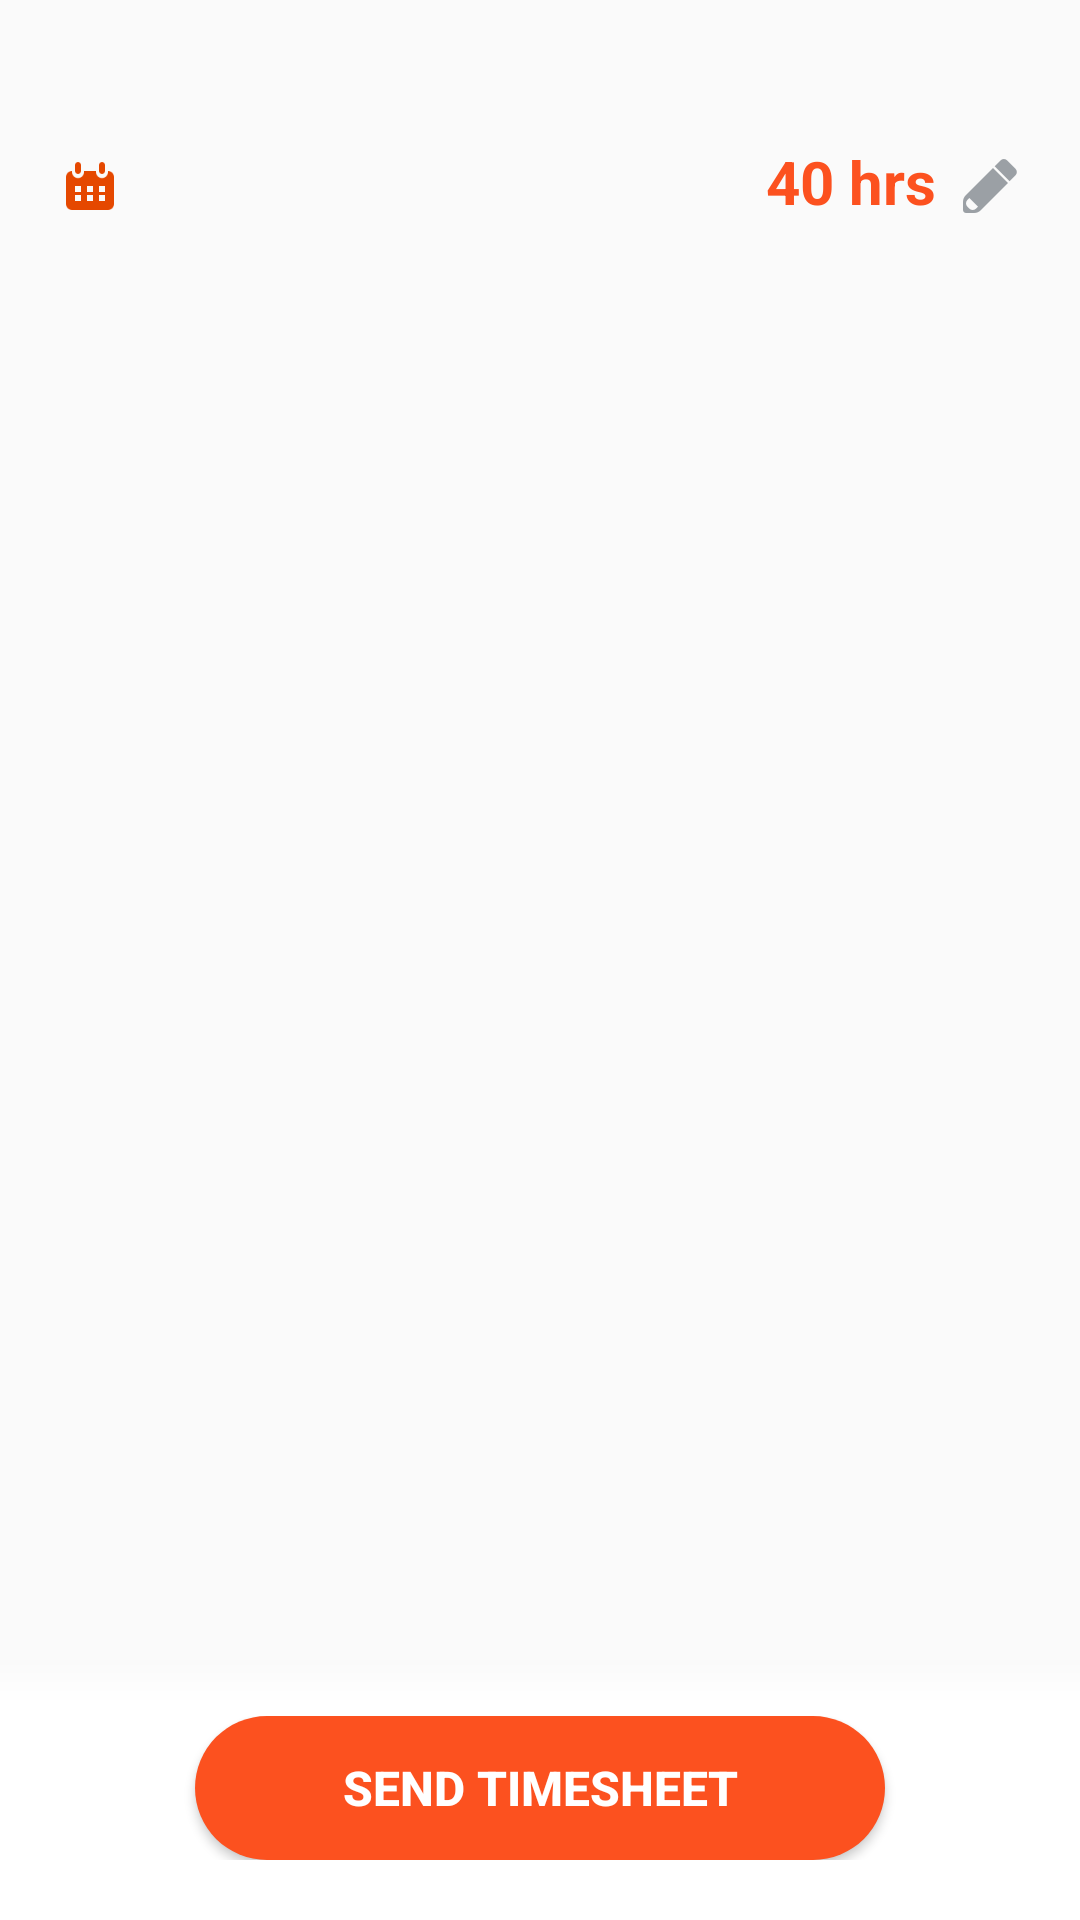

Where icons sit on this 1080w x 1920h app screen, as (x1, y1, x2, y2):
calendar: (66, 162, 114, 210)
edit: (963, 159, 1017, 213)
